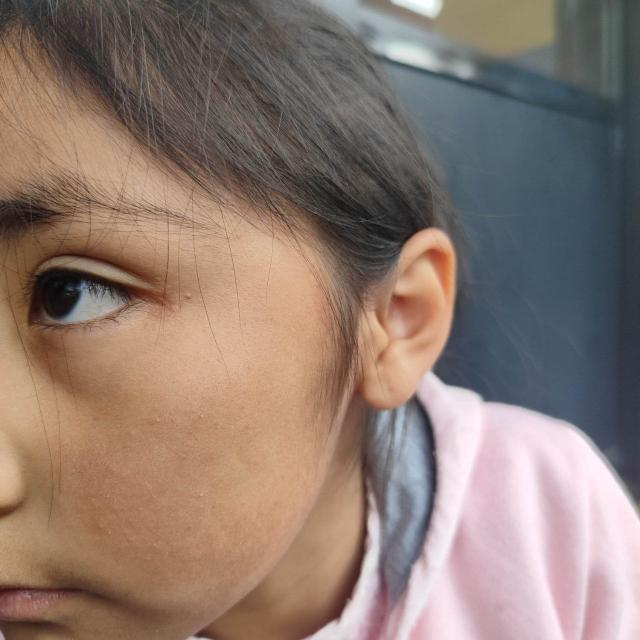ear: (359, 228, 456, 409)
